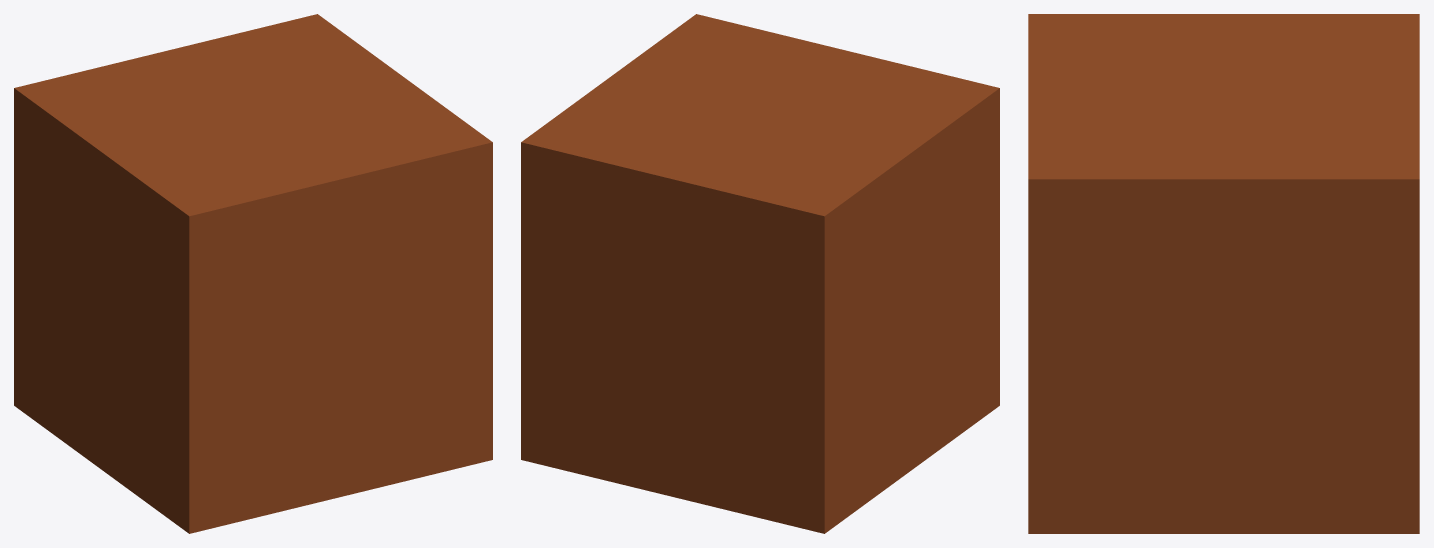
The picture shows the model from 3 angles, left to right: view 1: azimuth 30°, elevation 25°; view 2: azimuth 150°, elevation 25°; view 3: azimuth 270°, elevation 25°; orthographic projection. The views are drawn at different scales.
Parts seen in each view (by area): view 1: M; view 2: M; view 3: M.
Boxes of the visible parts, <box> form: M: <box>14,14,492,533</box>; M: <box>521,14,999,533</box>; M: <box>1028,14,1419,533</box>.
Size of the model in its own units: 0.5 by 0.5 by 0.5.
